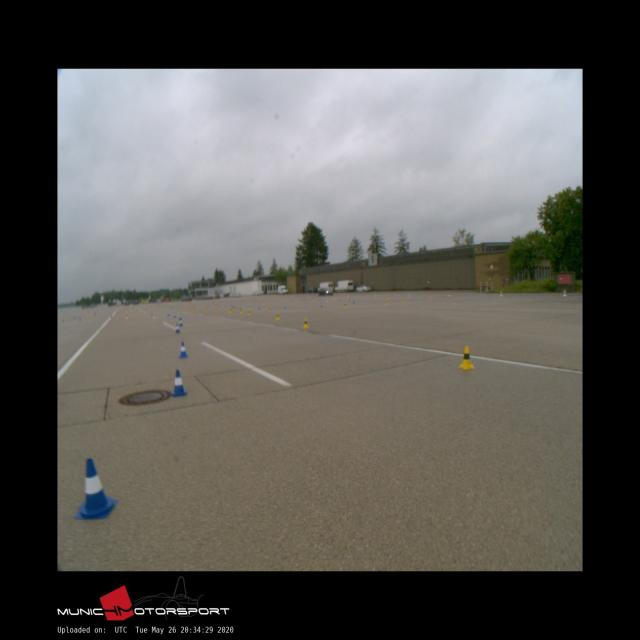blue_cone: (75, 460, 118, 520), (171, 371, 187, 396), (179, 342, 188, 357), (175, 324, 180, 333)
yellow_cone: (458, 347, 474, 368), (303, 317, 309, 328)
